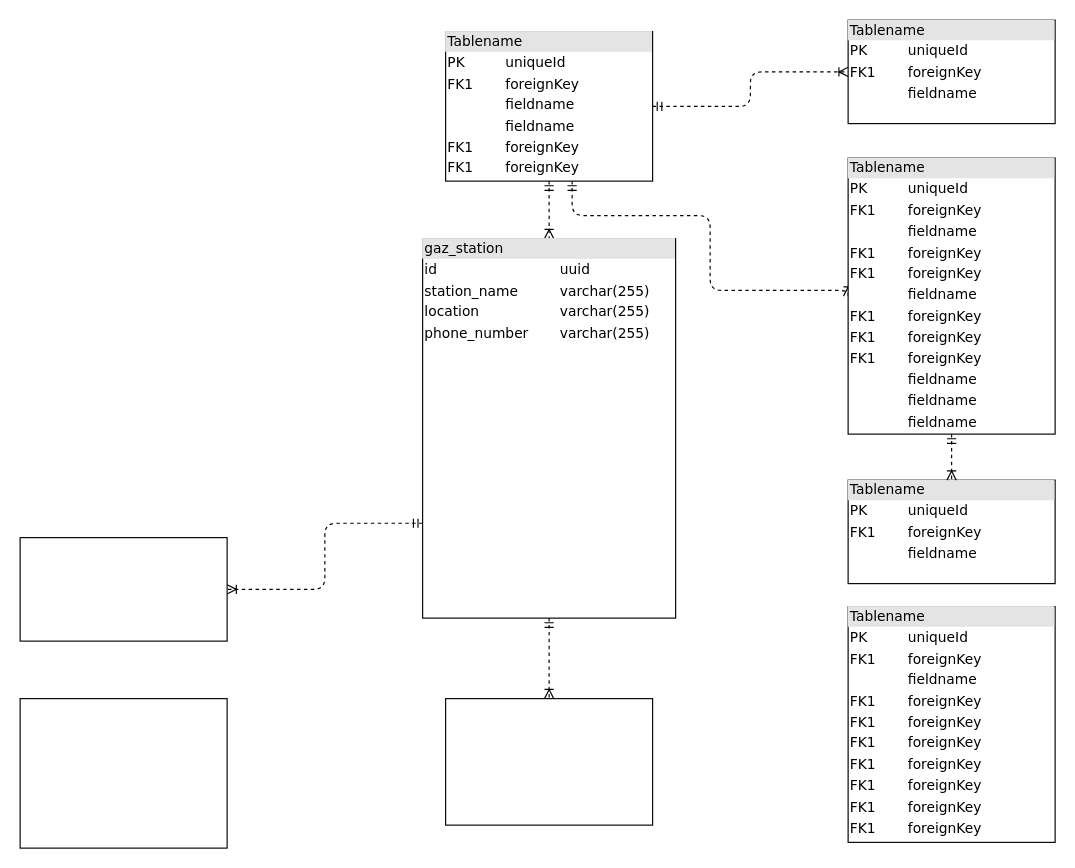
This 1075x868 diagram has some shape labels left out. The centre of each missing label's shape, as x and y in pixels:
Tablename PK uniqueId FK1 foreignKey fieldname fieldname: the point at 123,588
Tablename PK uniqueId FK1 foreignKey fieldname fieldname fieldname fieldname: the point at 123,772
Tablename PK uniqueId FK1 foreignKey fieldname fieldname FK1 foreignKey: the point at 548,761
